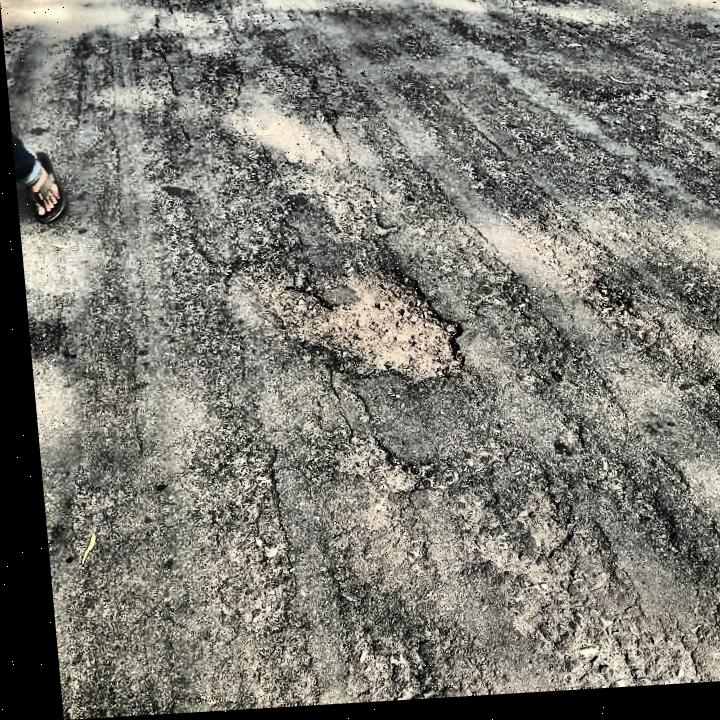pothole: (248, 259, 467, 399)
